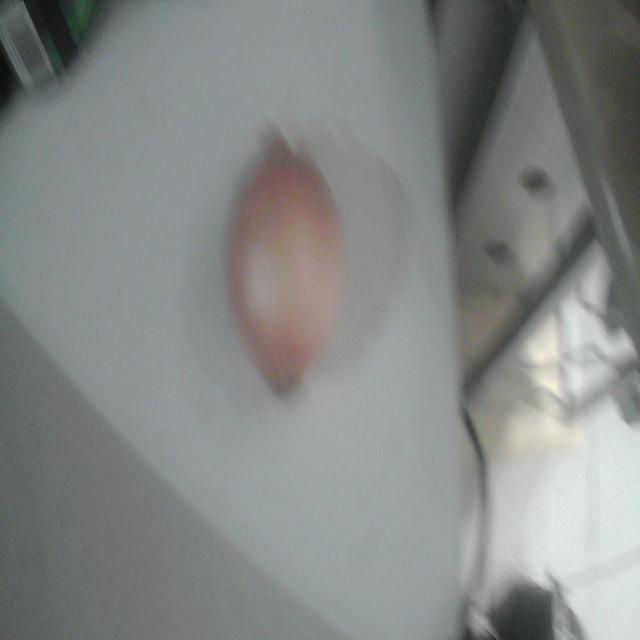Onion: (228, 136, 344, 392)
